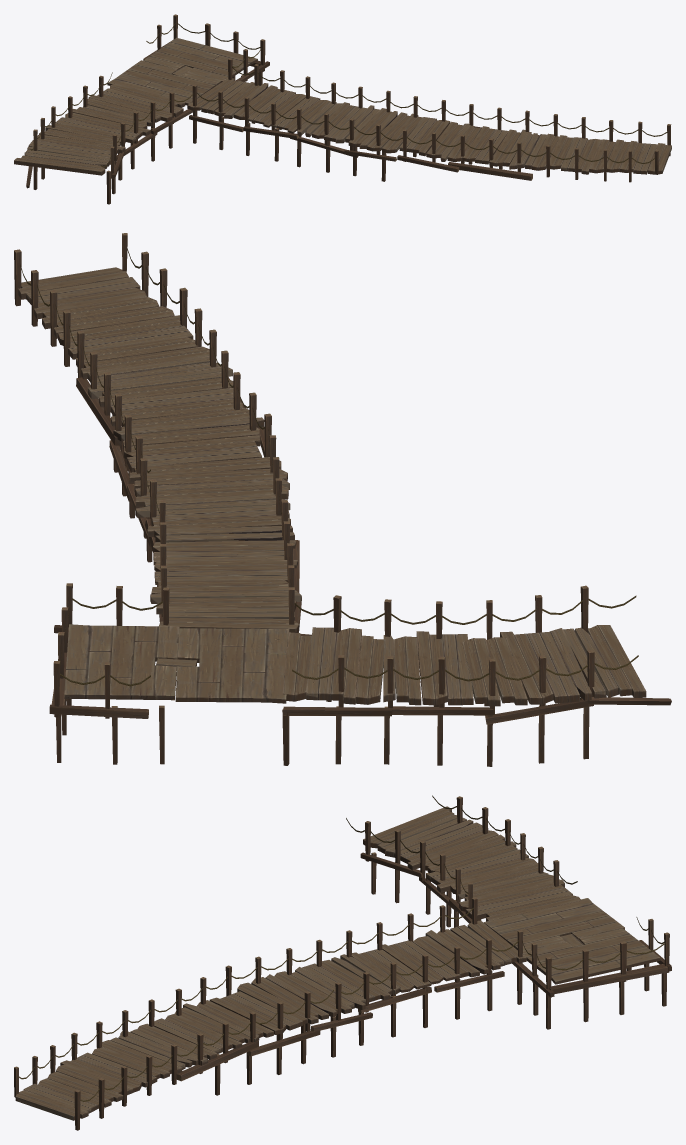
File: Area_16_1.fbx
The picture shows the model from 3 angles, top to bottom: view 1: azimuth 30°, elevation 25°; view 2: azimuth 150°, elevation 25°; view 3: azimuth 270°, elevation 25°; orthographic projection. The views are drawn at different scales.
Parts seen in each view (by area): view 1: Area_16_1; view 2: Area_16_1; view 3: Area_16_1.
Boxes of the visible parts, box(x1,y1,x2,y2) form: Area_16_1: box(14, 14, 671, 204); Area_16_1: box(14, 233, 671, 766); Area_16_1: box(14, 795, 671, 1130).
Size of the model in its own units: 6382 by 731 by 5691.
